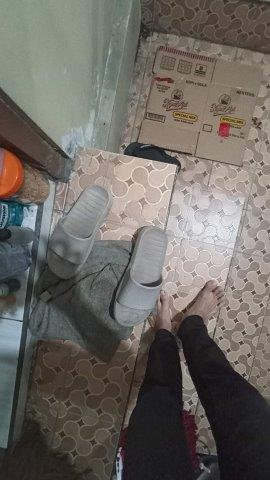kardus: (139, 47, 262, 165)
